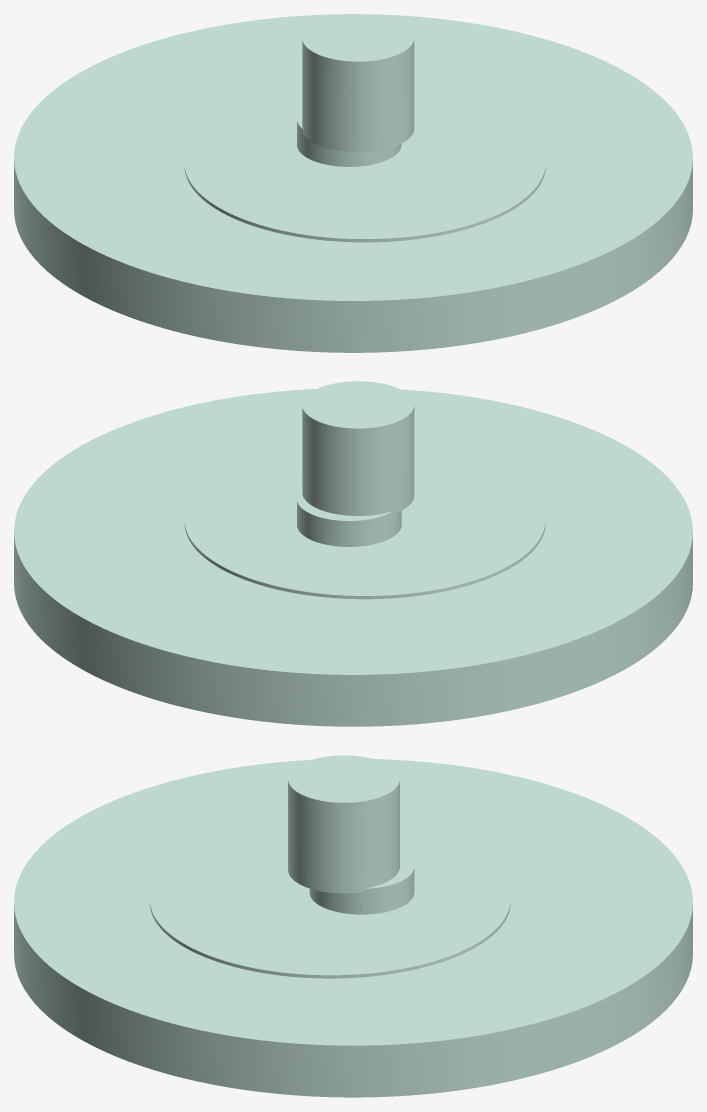
3 views of the same model, one above another, from view 1: azimuth 30°, elevation 25°; view 2: azimuth 150°, elevation 25°; view 3: azimuth 270°, elevation 25° (orthographic).
Visible parts, largest first — view 1: Renderer Node; view 2: Renderer Node; view 3: Renderer Node.
Part boxes in pixels (x1=…): Renderer Node: x1=14, y1=14, x2=692, y2=352; Renderer Node: x1=14, y1=381, x2=692, y2=726; Renderer Node: x1=14, y1=755, x2=692, y2=1097.
Bounding box in the file's own units: 1.48 × 0.4219 × 1.48.
